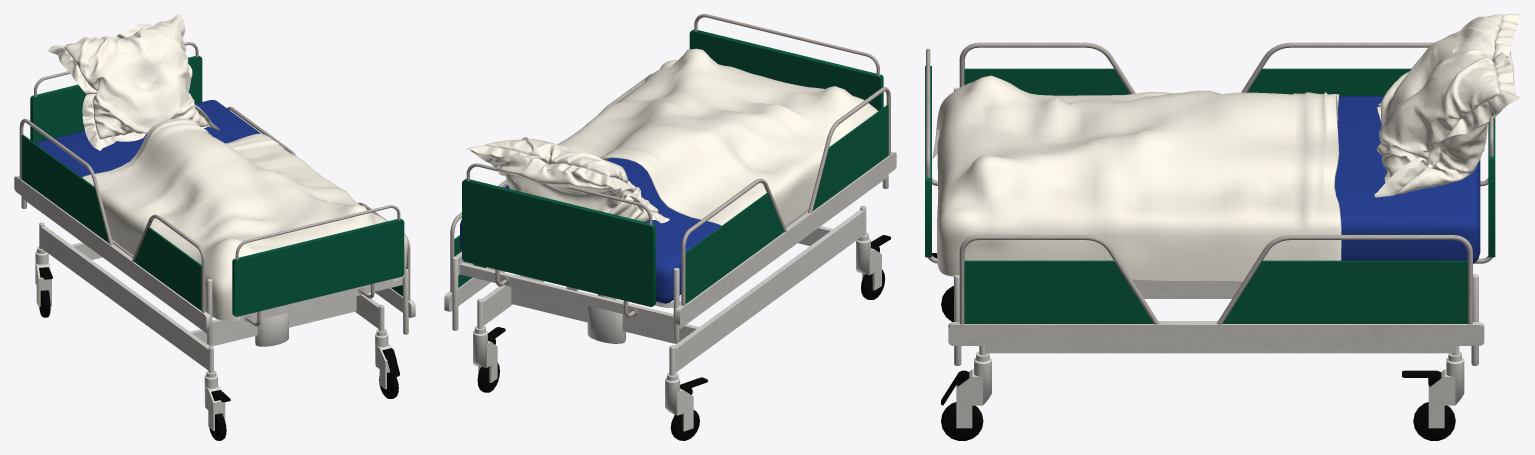
The model's file is NouveauLit.FBX.
3 renders of one model, left to right at view 1: azimuth 30°, elevation 25°; view 2: azimuth 150°, elevation 25°; view 3: azimuth 270°, elevation 25°, orthographic. The views are drawn at different scales.
Visible parts, largest first — view 1: Couverture, Lit-cadre, Oreiller, Lit-BarriereL, Lit-support roulant, Lit-Matelas, Lit-BarriereR, Lit-support roulant_Couvre roueA, Lit-support roulant_Couvre roueB, Lit-support roulant_Couvre roueD; view 2: Couverture, Lit-cadre, Lit-BarriereL, Lit-support roulant, Oreiller, Lit-Matelas, Lit-BarriereR, Lit-support roulant_Couvre roueD, Lit-support roulant_Couvre roueA, Lit-support roulant_Couvre roueC, Lit-support roulant_RoueD; view 3: Couverture, Lit-BarriereR, Oreiller, Lit-Matelas, Lit-BarriereL, Lit-cadre, Lit-support roulant, Lit-support roulant_Couvre roueC, Lit-support roulant_Couvre roueB, Lit-support roulant_RoueB, Lit-support roulant_RoueC.
Boxes of the visible parts, x1,y1,x2,y2 form: Couverture: (82,118,407,320); Lit-cadre: (22,42,404,333); Oreiller: (48,14,219,150); Lit-BarriereL: (14,118,212,344); Lit-support roulant: (39,222,384,372); Lit-Matelas: (35,100,260,177); Lit-BarriereR: (227,106,415,334); Lit-support roulant_Couvre roueA: (204,370,225,430); Lit-support roulant_Couvre roueB: (375,329,396,389); Lit-support roulant_Couvre roueD: (35,246,51,306); Couverture: (557,48,877,225); Lit-cadre: (455,14,887,328); Lit-BarriereL: (673,87,896,341); Lit-support roulant: (477,206,866,375); Oreiller: (465,137,669,223); Lit-Matelas: (460,158,720,303); Lit-BarriereR: (444,74,651,330); Lit-support roulant_Couvre roueD: (665,372,693,431); Lit-support roulant_Couvre roueA: (856,233,881,290); Lit-support roulant_Couvre roueC: (473,326,497,382); Lit-support roulant_RoueD: (670,410,699,440); Couverture: (932,75,1341,281); Lit-BarriereR: (948,235,1484,365); Oreiller: (1374,14,1520,197); Lit-Matelas: (1335,96,1480,263); Lit-BarriereL: (954,42,1484,151); Lit-cadre: (925,48,1495,298); Lit-support roulant: (979,321,1459,355); Lit-support roulant_Couvre roueC: (1428,351,1464,428); Lit-support roulant_Couvre roueB: (956,351,991,428); Lit-support roulant_RoueB: (941,402,983,440); Lit-support roulant_RoueC: (1413,402,1455,440).
Bounding box in the file's own units: 125 × 141 × 221.
